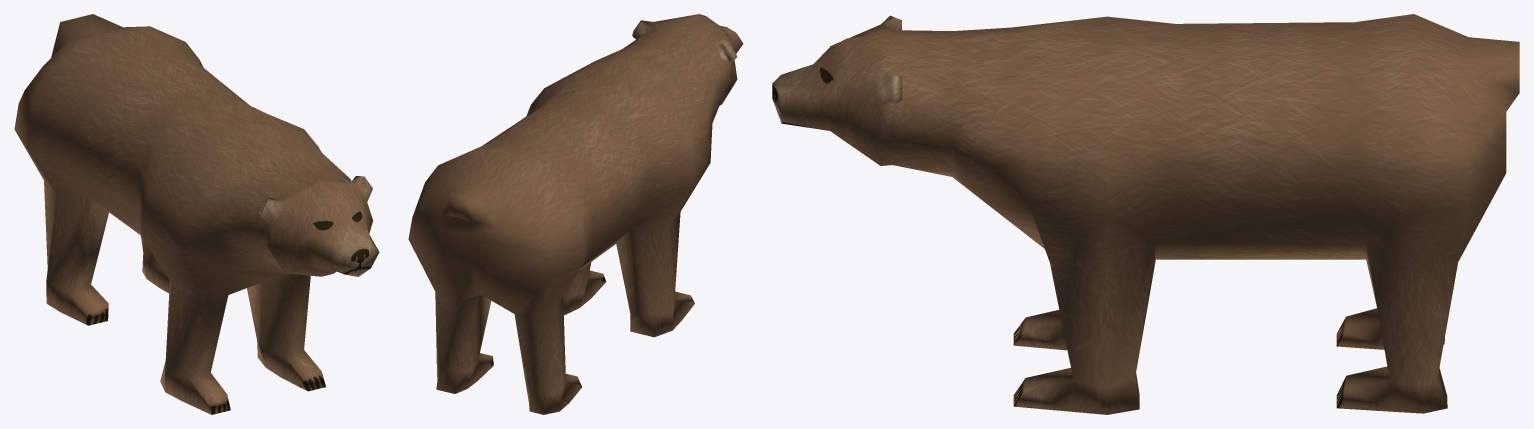
File: bear.fbx
The picture shows the model from 3 angles, left to right: view 1: azimuth 30°, elevation 25°; view 2: azimuth 150°, elevation 25°; view 3: azimuth 270°, elevation 25°; orthographic projection. The views are drawn at different scales.
Visible parts, largest first — view 1: night_bear2; view 2: night_bear2; view 3: night_bear2.
Part boxes in pixels (x1=…): night_bear2: x1=14, y1=14, x2=379, y2=414; night_bear2: x1=408, y1=14, x2=743, y2=414; night_bear2: x1=772, y1=14, x2=1519, y2=414.
Size of the model in its own units: 2.52 by 3.36 by 6.74.
